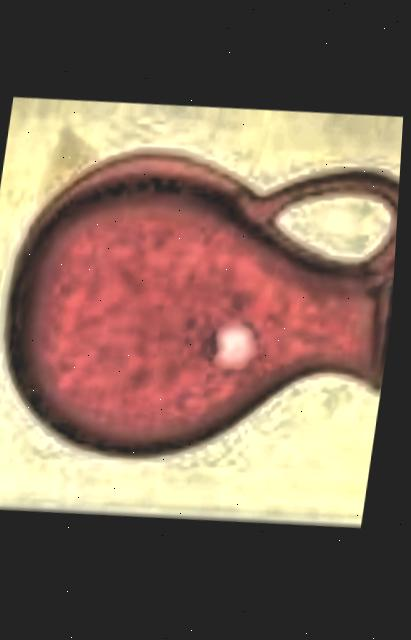El Cantarito: (0, 85, 406, 542)
